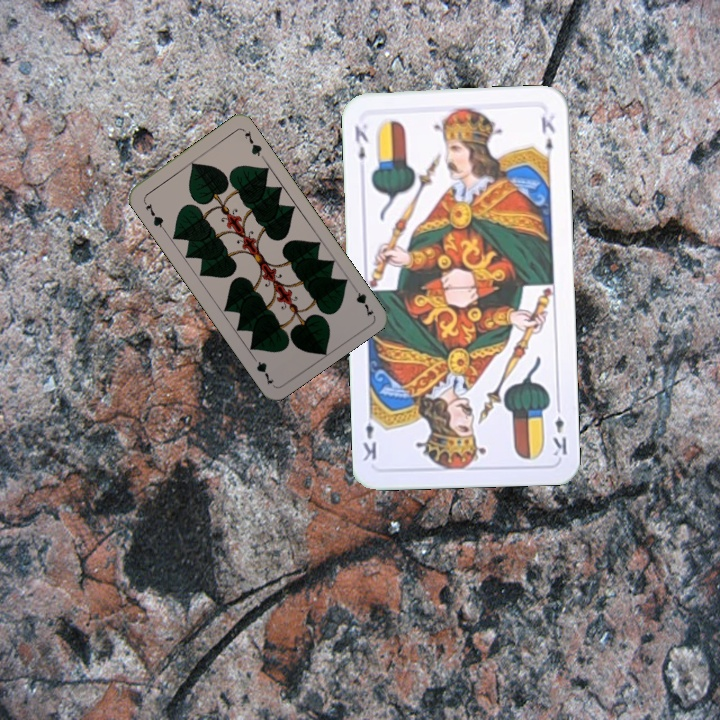EK: (549, 399, 570, 459), (350, 122, 371, 163)
G7: (348, 281, 376, 319), (141, 199, 168, 232)
